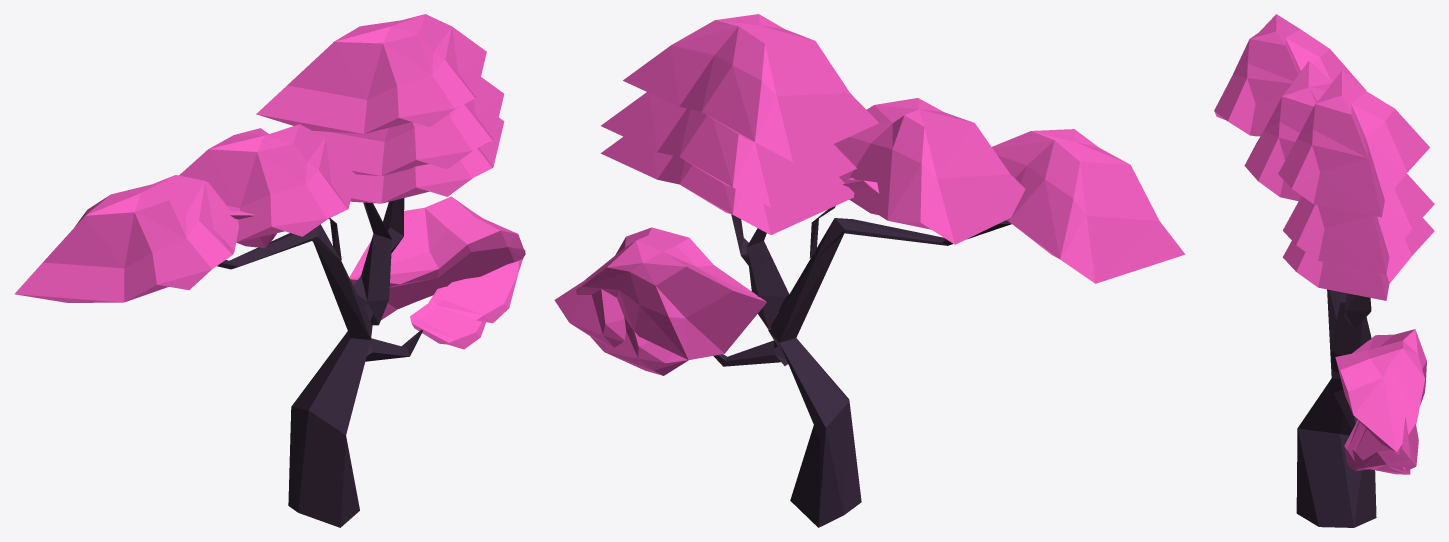
File: Tree_Home.glb
3 views of the same model, side by side, from view 1: azimuth 30°, elevation 25°; view 2: azimuth 150°, elevation 25°; view 3: azimuth 270°, elevation 25° (orthographic). The views are drawn at different scales.
Visible parts, largest first — view 1: Big_PinkTree; view 2: Big_PinkTree; view 3: Big_PinkTree.
Boxes of the visible parts, <box> form: Big_PinkTree: <box>14,14,525,527</box>; Big_PinkTree: <box>554,14,1185,527</box>; Big_PinkTree: <box>1214,14,1434,527</box>.
Size of the model in its own units: 73.6 by 58.05 by 25.29.
